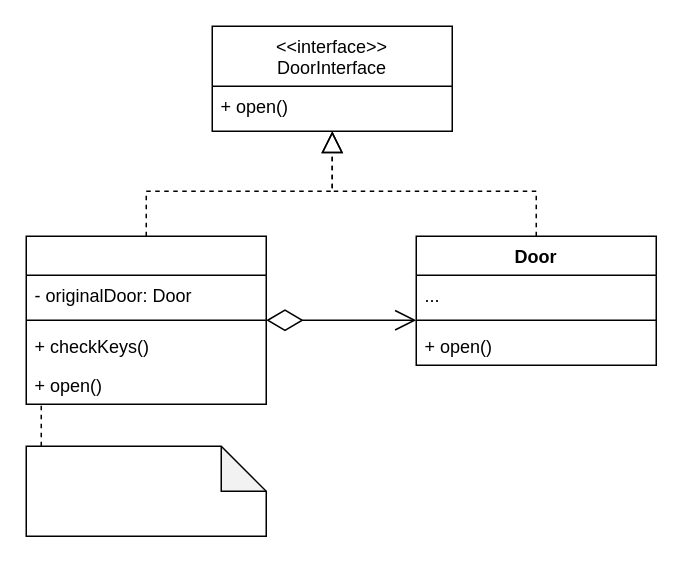
Some shapes in this 683 by 563 pixel diagram are drawn without their labels. Each missing label, with the box of its shape:
AntiBurglarDoor: (25, 235, 266, 404)
if (checkKeys()) { originalDoor.open() }: (25, 445, 266, 536)
